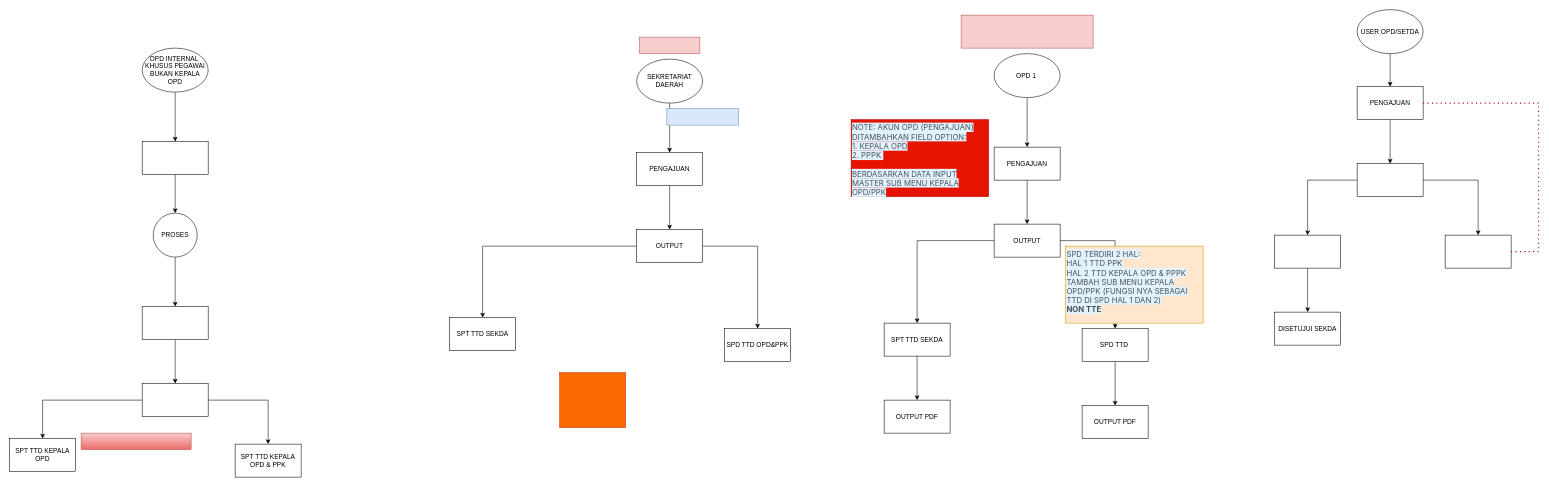
This 1549x487 diagram has some shape labels left out. Each missing label, with the centre of its shape:
"1. TAMBAH MENU BARU UNTUK SETDA DAN DATA MASTER 2. MENU SETDA KEUANGAN" goes at (592,400).
"12 BAGIAN SETDA" goes at (702,116).
"DESIGN KOP SURAT BERBEDA" goes at (136,441).
"DISETUJUI KEPALA OPD" goes at (175,400).
"DITERIMA" goes at (1307,251).
"DITOLAK" goes at (1478,251).
"PENGAJUAN USER OPD" goes at (175,158).
"Rekomendasi perjalanan Dinas Bagi Kepala OPD / Badan / Camat Kota Palembang" goes at (1027,31).
"SEKRETARIAT" goes at (669,45).
"VERIFIKASI" goes at (1390,180).
"VERIFIKATOR SEKRETARIS" goes at (175,323).
